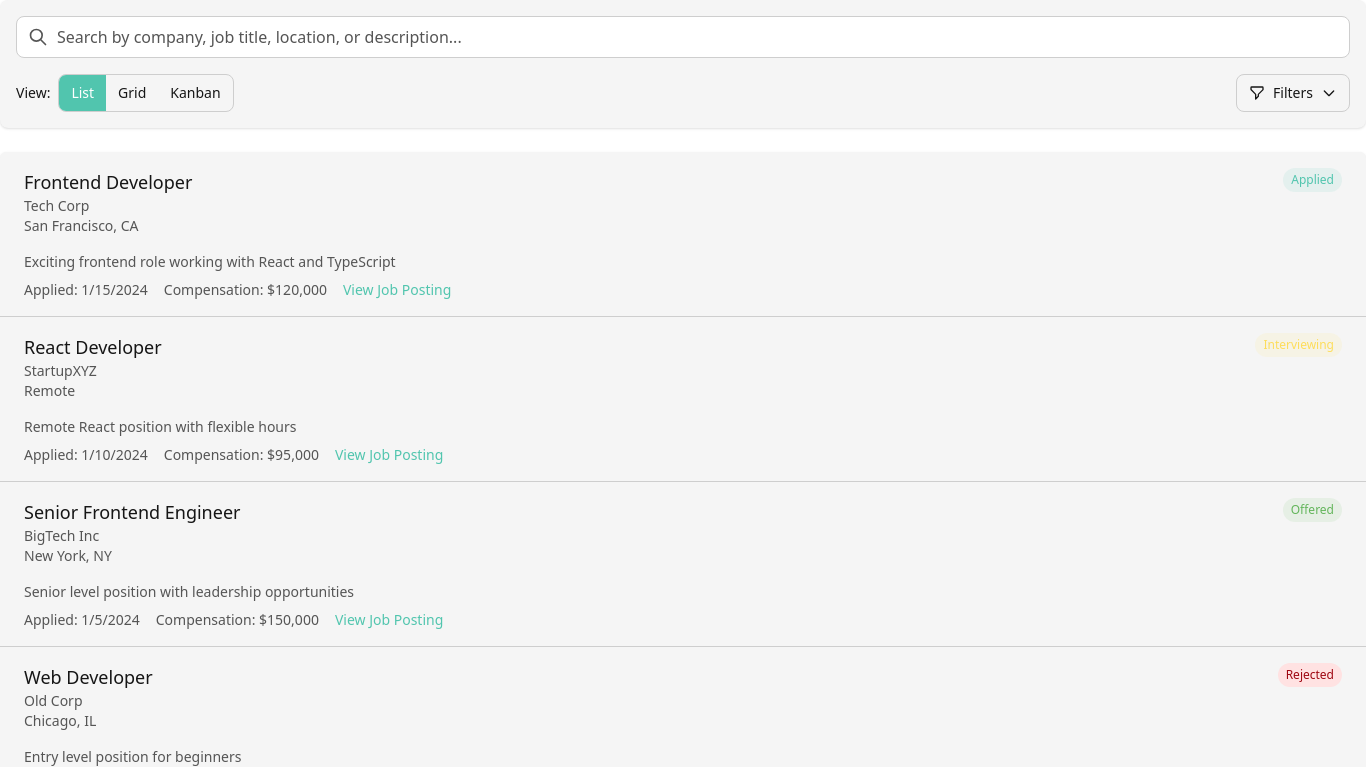
ApplicationsView Component › Collapsible Filters › should hide filters when toggle button is clicked again
Show filters
Click the button with test id "toggle-filters-button": (1293, 93) [1236, 74, 1350, 112]
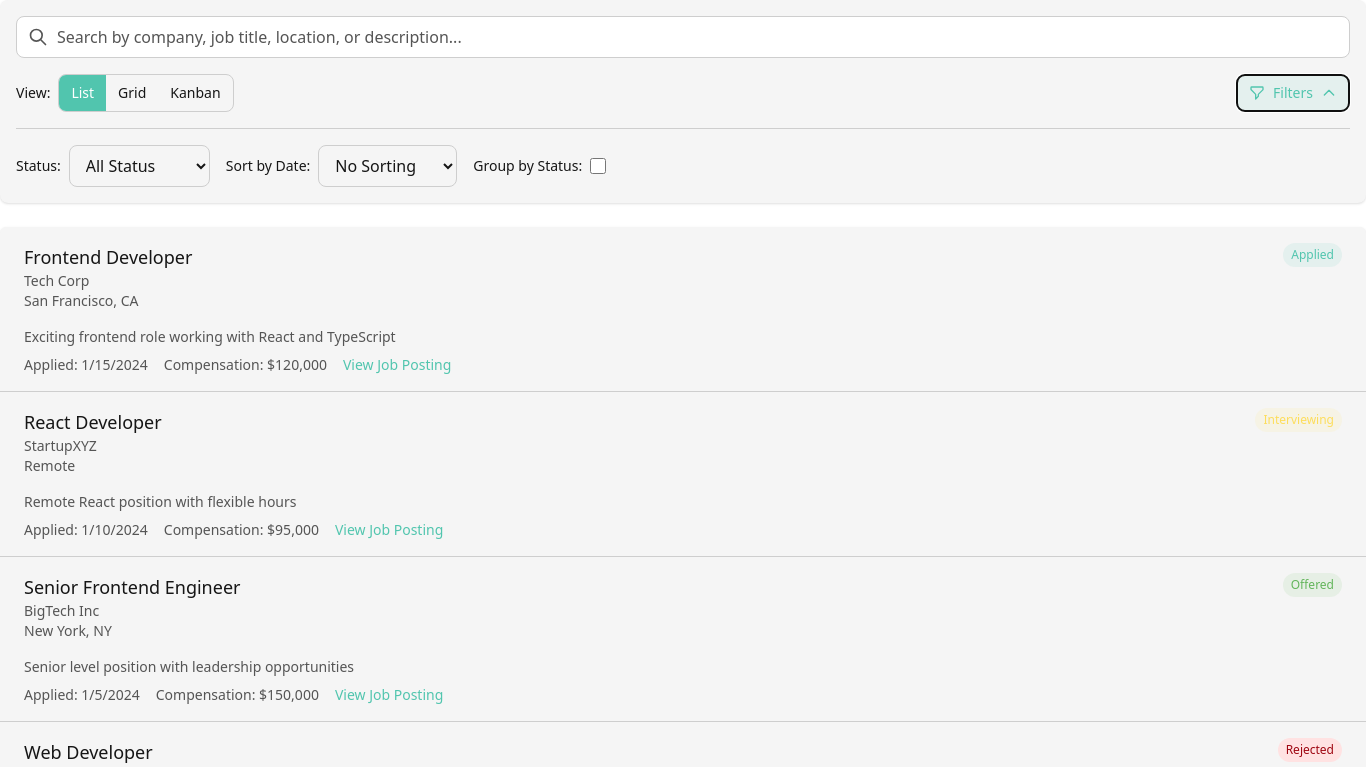
Expected: the dropdown with test id "status-filter" is shown, [69, 145, 210, 187]
Hide filters
Click the button with test id "toggle-filters-button": (1293, 93) [1236, 74, 1350, 112]
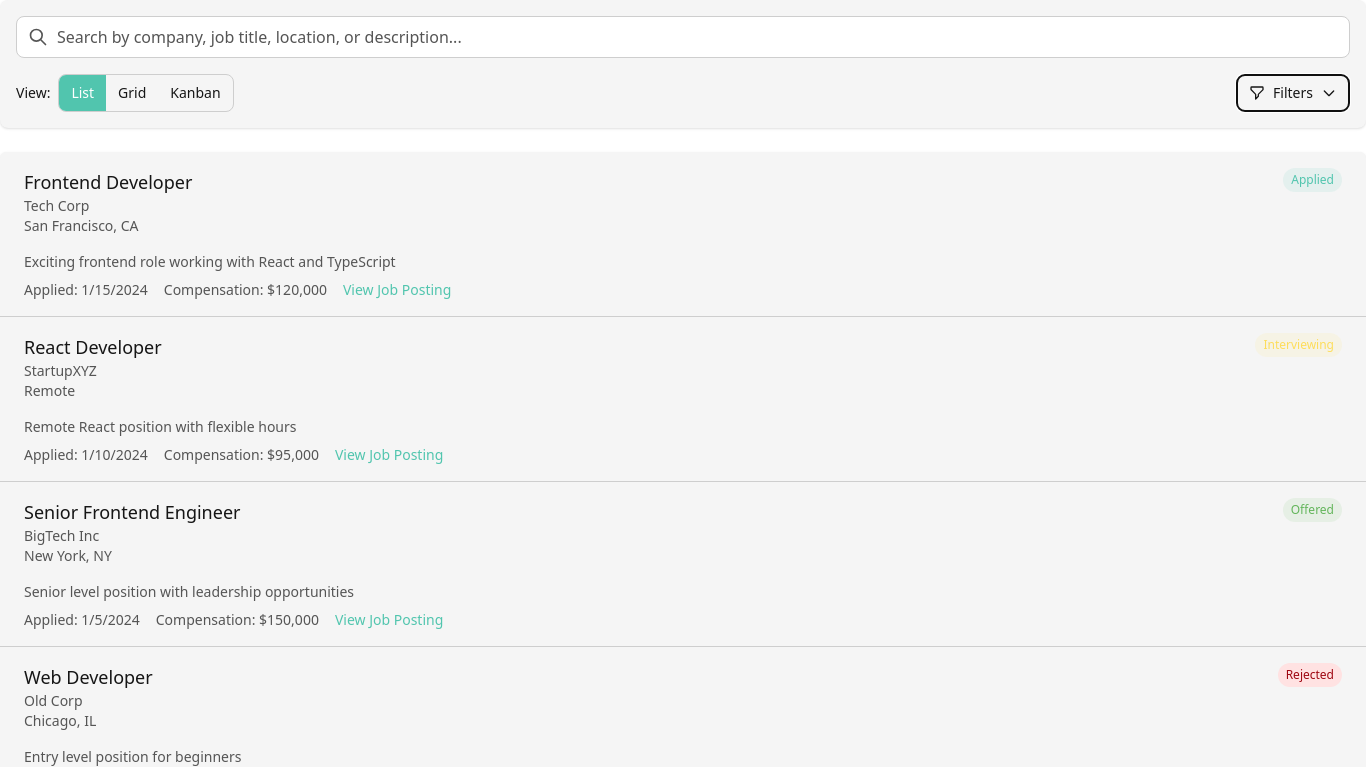
Expected: the dropdown with test id "status-filter" is gone
